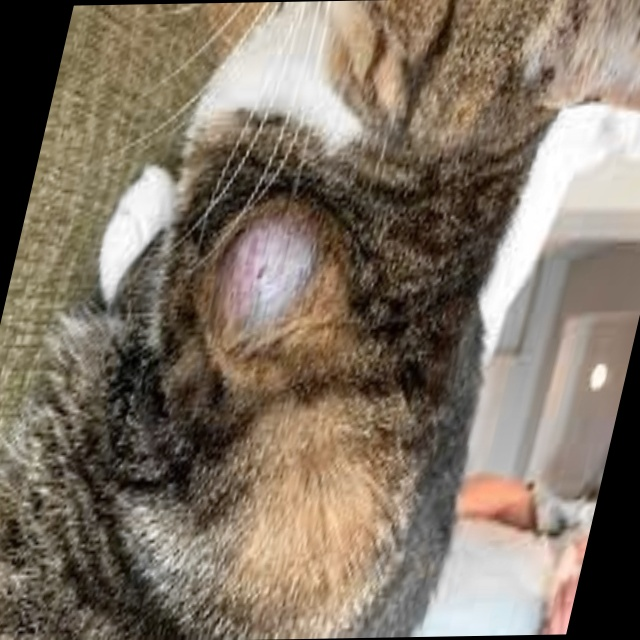lump_and_bump: (210, 211, 324, 332)
